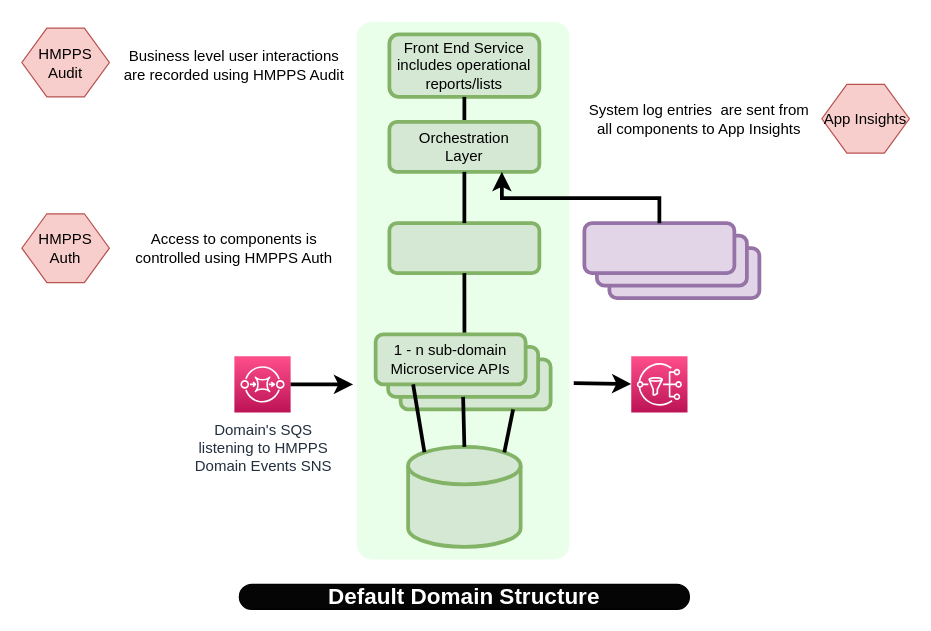
Image size: 931x631. Some labels were removed from this diagram. The shapes that lost their labels are listed below. From the top down, each one's centre as x and y in pixels, then its label:
At point (464, 247): "Domain API".
At point (659, 247): "Core Domain API".
At point (659, 383): "HMPPS Domain Events SNS".
At point (464, 496): "Domain Data".
